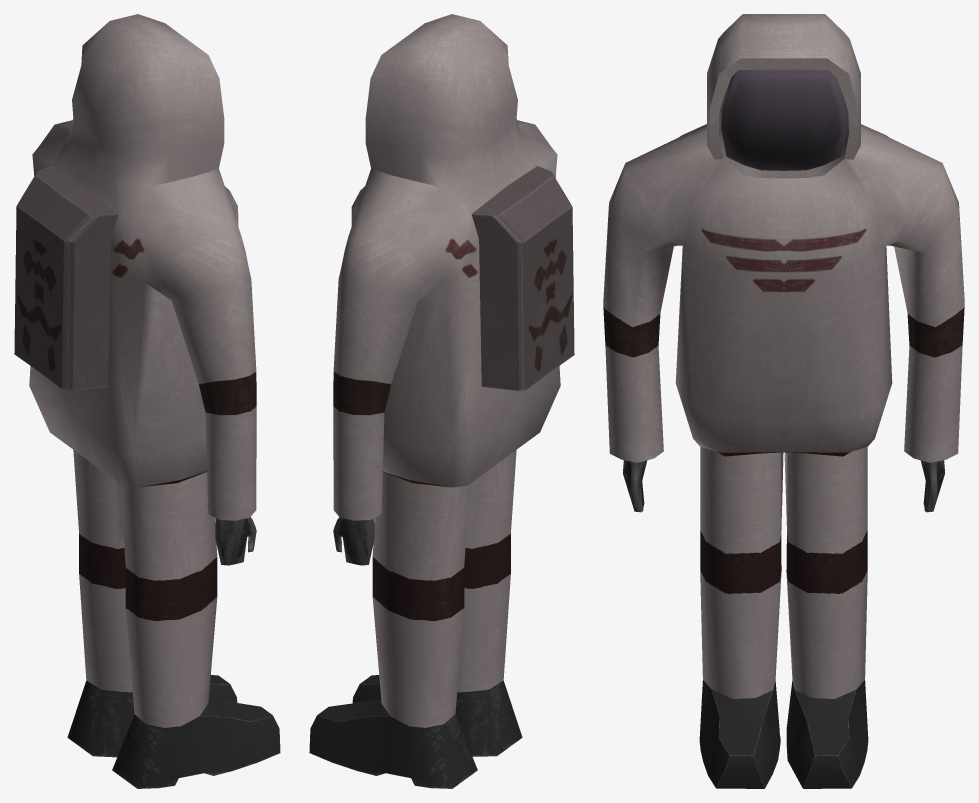
3 views of the same model, side by side, from view 1: azimuth 30°, elevation 25°; view 2: azimuth 150°, elevation 25°; view 3: azimuth 270°, elevation 25° (orthographic).
Parts seen in each view (by area): view 1: space_suit; view 2: space_suit; view 3: space_suit.
Part boxes in pixels (x1,y1,x2,y2): space_suit: [14, 14, 280, 788]; space_suit: [309, 14, 574, 788]; space_suit: [603, 14, 964, 788].
Bounding box in the file's own units: 374 × 1219 × 556.
1 material, 1 textured.
